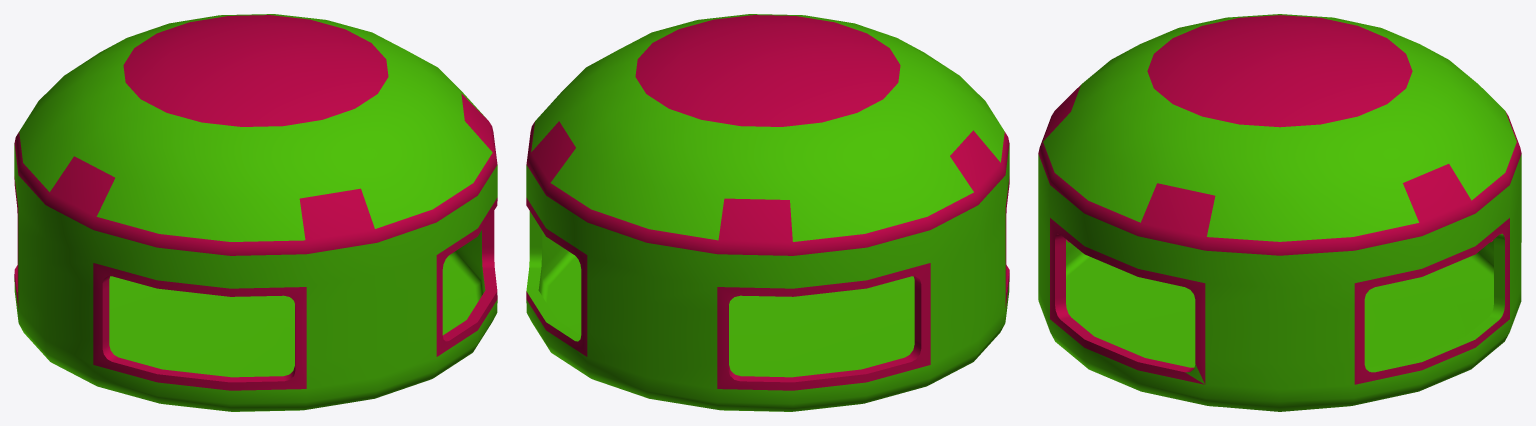
The model's file is arc_sci_base-Domehouse-Dome-B.fbx.
3 renders of one model, left to right at view 1: azimuth 30°, elevation 25°; view 2: azimuth 150°, elevation 25°; view 3: azimuth 270°, elevation 25°, orthographic.
Parts seen in each view (by area): view 1: arc_sci_base-Domehouse-Dome-B; view 2: arc_sci_base-Domehouse-Dome-B; view 3: arc_sci_base-Domehouse-Dome-B.
Boxes of the visible parts, x1,y1,x2,y2 form: arc_sci_base-Domehouse-Dome-B: (14, 14, 497, 411); arc_sci_base-Domehouse-Dome-B: (526, 14, 1009, 411); arc_sci_base-Domehouse-Dome-B: (1038, 14, 1521, 411).
Bounding box in the file's own units: 10.26 × 6.13 × 10.26.
